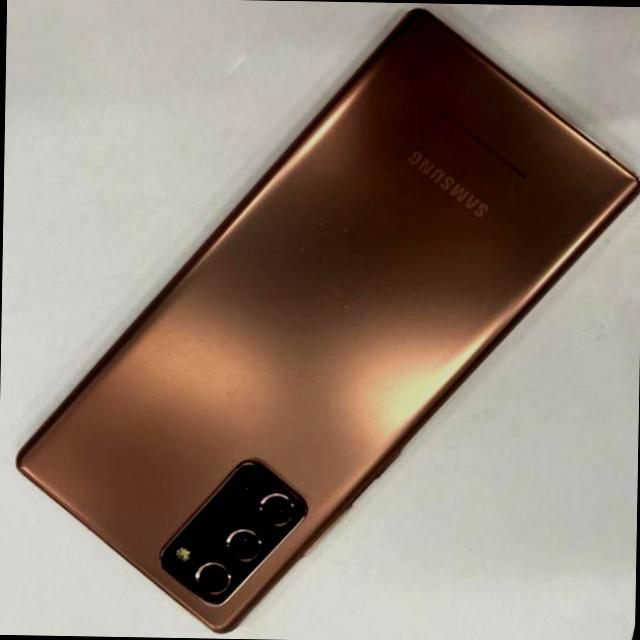lens_back: (252, 477, 297, 528), (193, 555, 242, 598), (212, 522, 266, 560)
